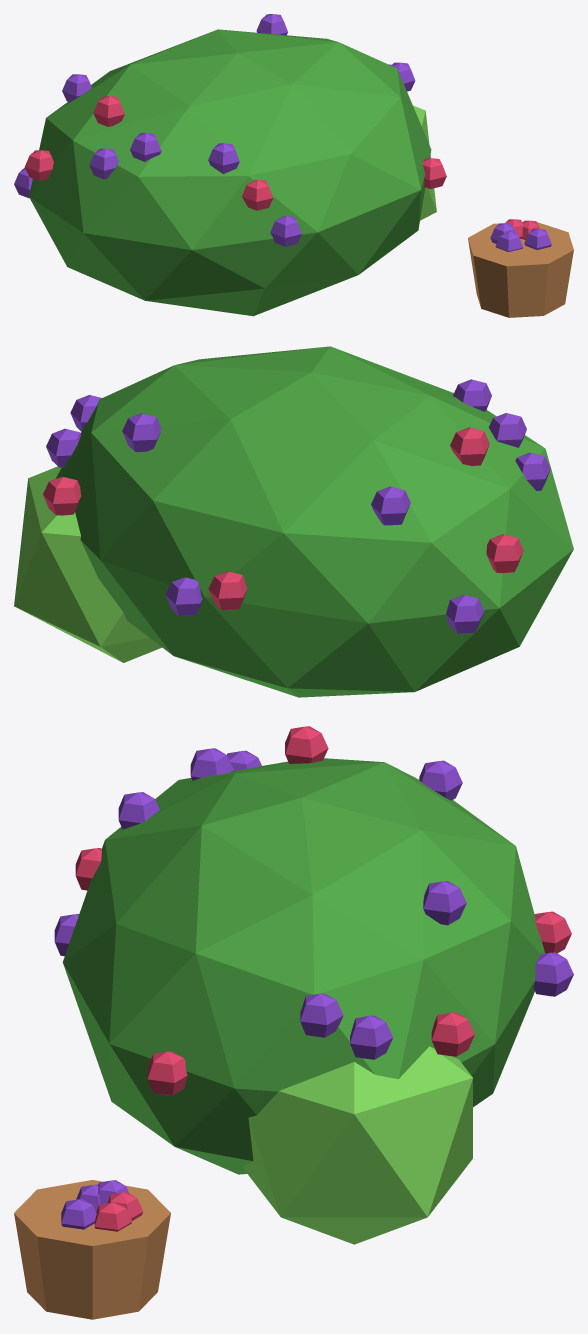
File: station_berry_bush.glb
3 renders of one model, top to bottom at view 1: azimuth 30°, elevation 25°; view 2: azimuth 150°, elevation 25°; view 3: azimuth 270°, elevation 25°, orthographic. The views are drawn at different scales.
Visible parts, largest first — view 1: station_berry_bush, station_berry_bush_berries; view 2: station_berry_bush, station_berry_bush_berries; view 3: station_berry_bush, station_berry_bush_berries.
Part boxes in pixels (x1,y1,x2,y2): station_berry_bush: (29, 29, 573, 317); station_berry_bush_berries: (14, 14, 446, 246); station_berry_bush: (14, 346, 573, 697); station_berry_bush_berries: (43, 379, 550, 633); station_berry_bush: (14, 758, 544, 1319); station_berry_bush_berries: (54, 726, 573, 1095).
Bounding box in the file's own units: 1.69 × 0.9004 × 1.28.
